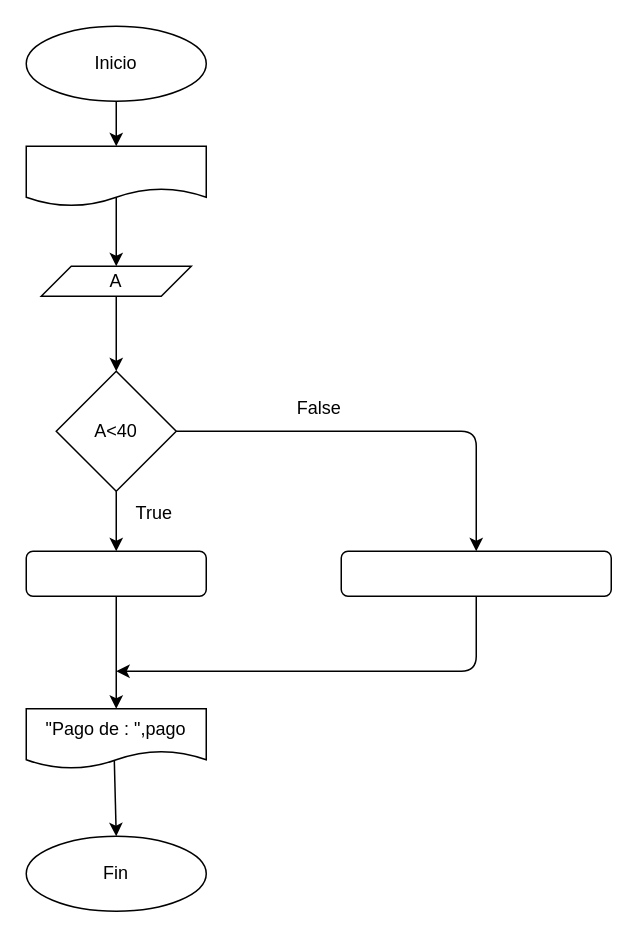
Image size: 638x938. Some labels were removed from this diagram. The shapes that lost their labels are listed below. From the top down, each one's centre as x and y in pixels, then its label:
point 115,175: "Ingresar numero de horas"
point 115,573: pago <-- A*20
point 475,573: pago <-- (40*20)+(A-40)*30
